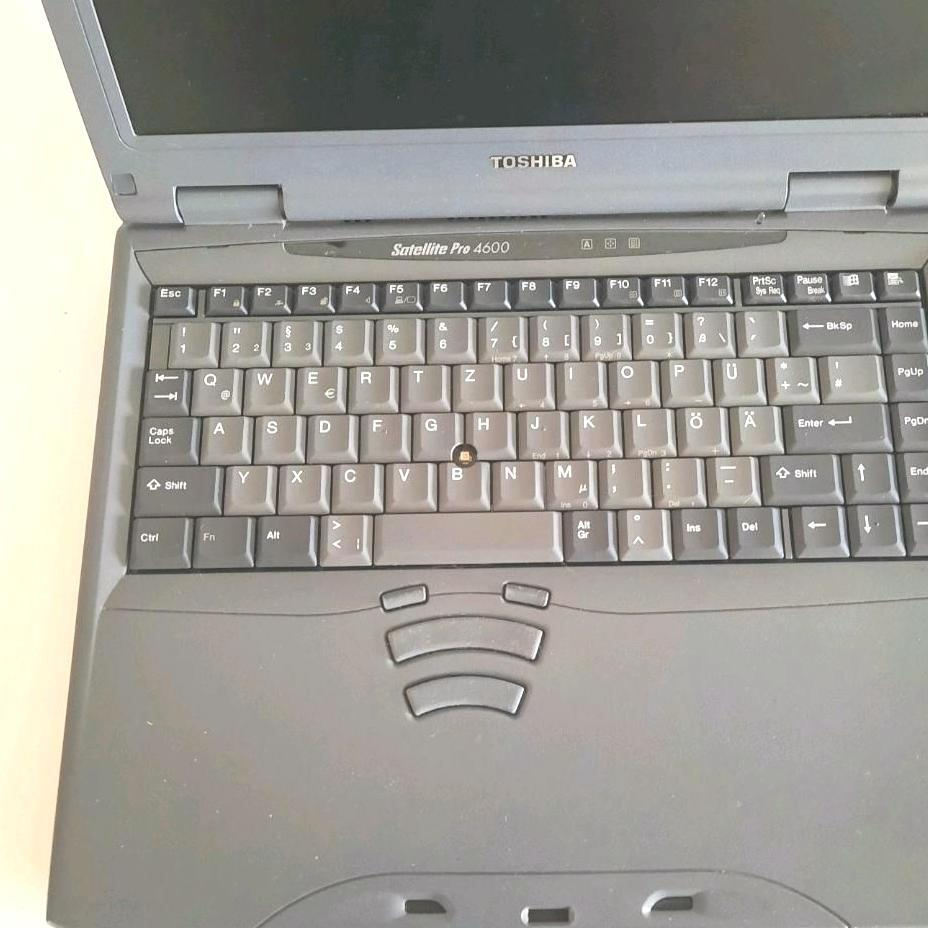0: (632, 305, 676, 354)
1: (165, 316, 213, 365)
2: (218, 315, 264, 364)
3: (270, 314, 315, 363)
4: (322, 313, 365, 359)
5: (373, 312, 417, 359)
6: (425, 311, 468, 357)
7: (478, 310, 521, 358)
8: (527, 308, 572, 359)
9: (581, 307, 625, 357)
a: (199, 411, 245, 460)
accent: (735, 305, 781, 350)
ae: (730, 401, 777, 450)
alt-left: (252, 510, 312, 564)
altgr-right: (561, 505, 610, 558)
b: (436, 457, 484, 505)
c: (330, 459, 376, 508)
caret: (621, 509, 670, 562)
comma: (597, 453, 643, 503)
d: (305, 409, 350, 458)
del: (788, 300, 873, 350)
e: (294, 362, 341, 411)
enter: (782, 398, 883, 448)
f: (358, 408, 404, 458)
g: (411, 407, 455, 457)
h: (465, 408, 508, 451)
hash: (819, 350, 880, 399)
i: (556, 357, 599, 402)
j: (517, 405, 561, 455)
k: (571, 405, 615, 454)
keyboard: (99, 255, 928, 591)
l: (623, 403, 668, 449)
less: (318, 509, 368, 564)
m: (545, 454, 589, 504)
minus: (706, 451, 752, 499)
n: (491, 456, 536, 503)
o: (606, 356, 651, 401)
oe: (676, 402, 722, 452)
p: (660, 354, 705, 401)
plus: (766, 351, 813, 399)
point: (652, 453, 698, 501)
q: (188, 363, 236, 412)
r: (347, 362, 391, 407)
s: (251, 409, 297, 459)
shift-left: (129, 460, 217, 513)
shift-lock: (134, 412, 193, 462)
shift-right: (762, 449, 835, 498)
space: (147, 121, 842, 222), (501, 557, 928, 614), (95, 567, 428, 614), (373, 505, 558, 563)
ss: (683, 306, 729, 352)
strg-left: (124, 513, 188, 567)
t: (399, 360, 442, 404)
tab: (142, 366, 186, 413)
u: (503, 358, 546, 405)
ue: (712, 353, 759, 401)
v: (384, 458, 430, 506)
w: (242, 363, 287, 409)
x: (277, 460, 322, 508)
y: (222, 460, 269, 510)
z: (452, 359, 494, 404)
